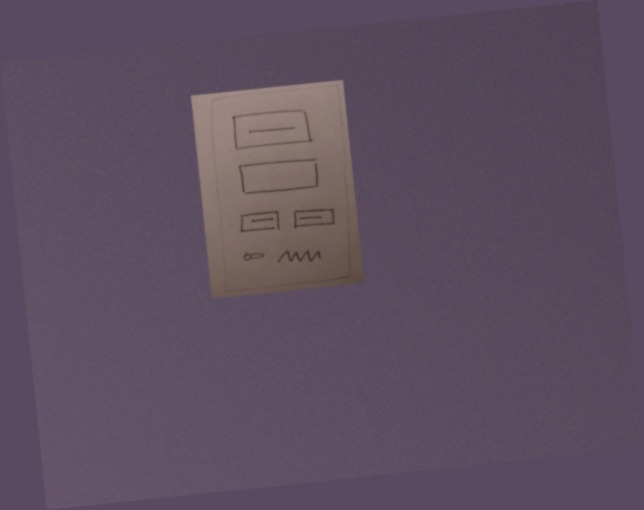button: (229, 103, 317, 156), (237, 208, 285, 237), (290, 205, 338, 233)
switch: (240, 248, 269, 266)
text: (275, 245, 325, 271)
text_input: (235, 155, 324, 199)
